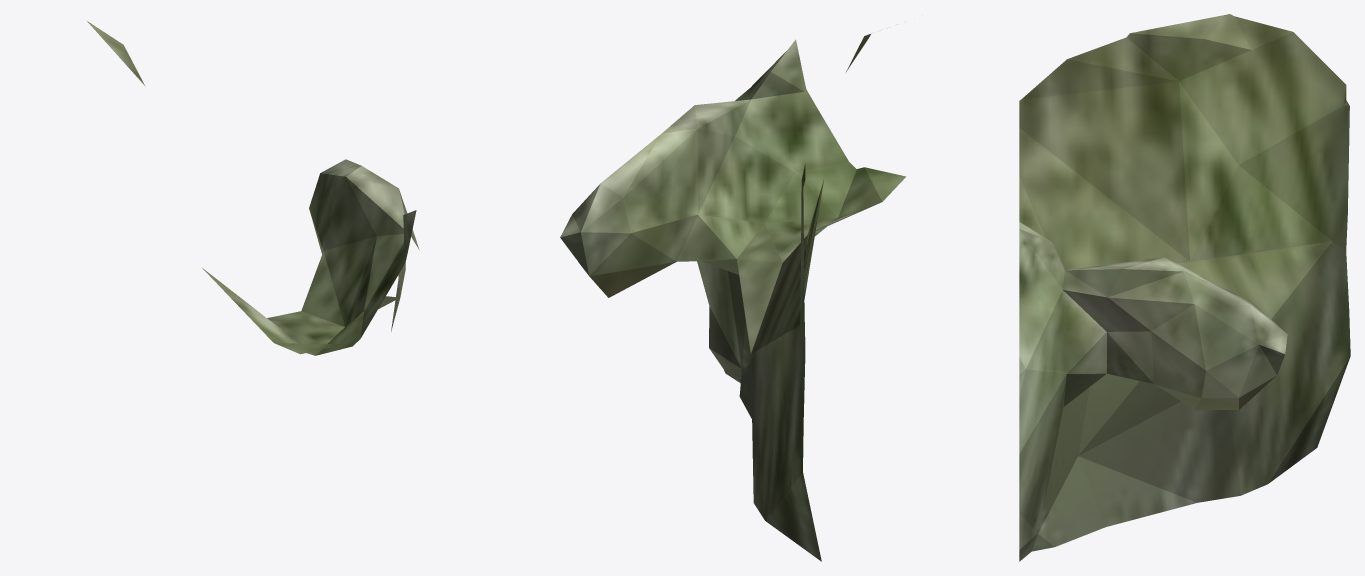
3 renders of one model, left to right at view 1: azimuth 30°, elevation 25°; view 2: azimuth 150°, elevation 25°; view 3: azimuth 270°, elevation 25°, orthographic. The views are drawn at different scales.
Size of the model in its own units: 1.09 by 1.68 by 1.16.
1 material, 1 textured.
